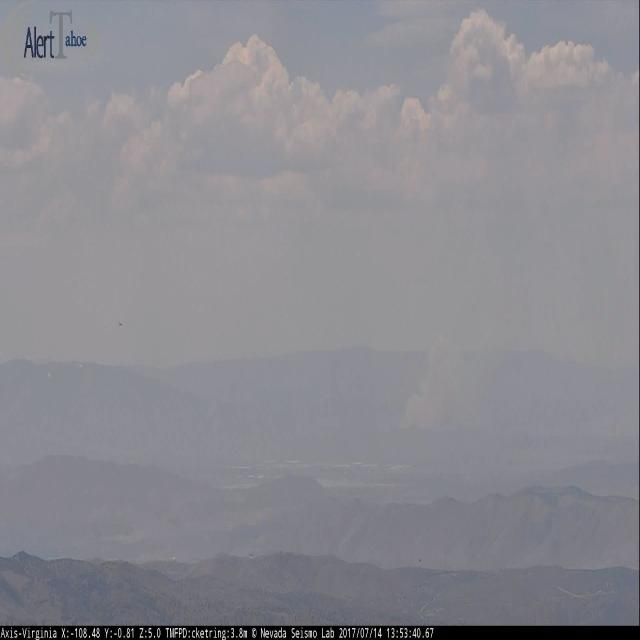smoke: (405, 335, 455, 428)
